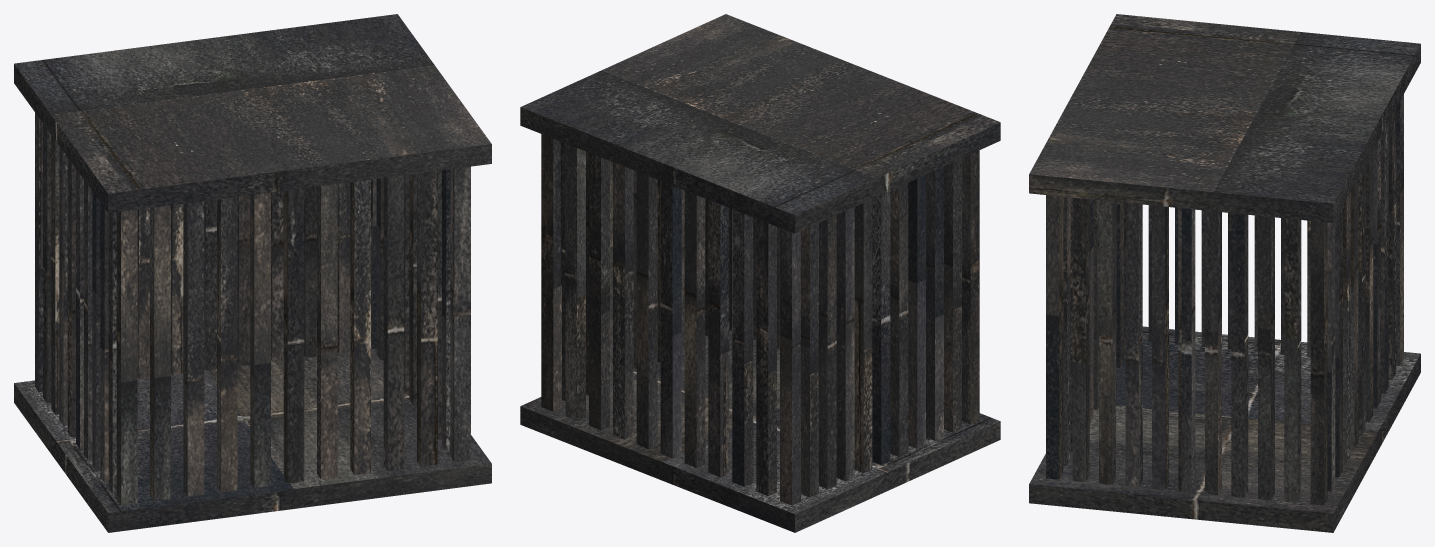
Rendered from Jail_Cell.fbx.
3 views of the same model, side by side, from view 1: azimuth 30°, elevation 25°; view 2: azimuth 150°, elevation 25°; view 3: azimuth 270°, elevation 25° (orthographic). The views are drawn at different scales.
Parts seen in each view (by area): view 1: Jail_Cell; view 2: Jail_Cell; view 3: Jail_Cell.
Boxes of the visible parts, x1,y1,x2,y2 form: Jail_Cell: (14,14,491,532); Jail_Cell: (520,14,1000,532); Jail_Cell: (1029,14,1420,532).
Size of the model in its own units: 76.99 by 62.23 by 67.13.
Materials: 1 (1 with a texture image).
